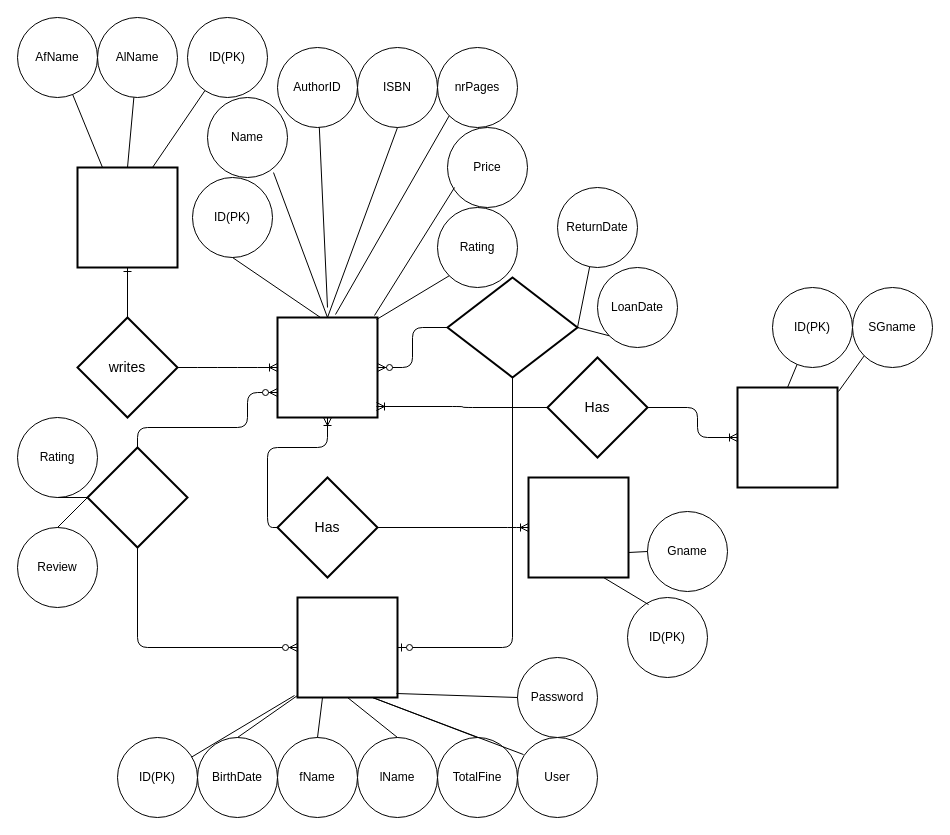
This 950x835 diagram has some shape labels left out. Each missing label, with the box of its shape:
Authors: (76, 166, 178, 268)
Books: (276, 316, 378, 418)
BooksBorrowed: (446, 276, 578, 378)
BooksRead: (86, 446, 188, 548)
Genres: (527, 476, 629, 578)
Readers: (296, 596, 398, 698)
SubGenres: (736, 386, 838, 488)
